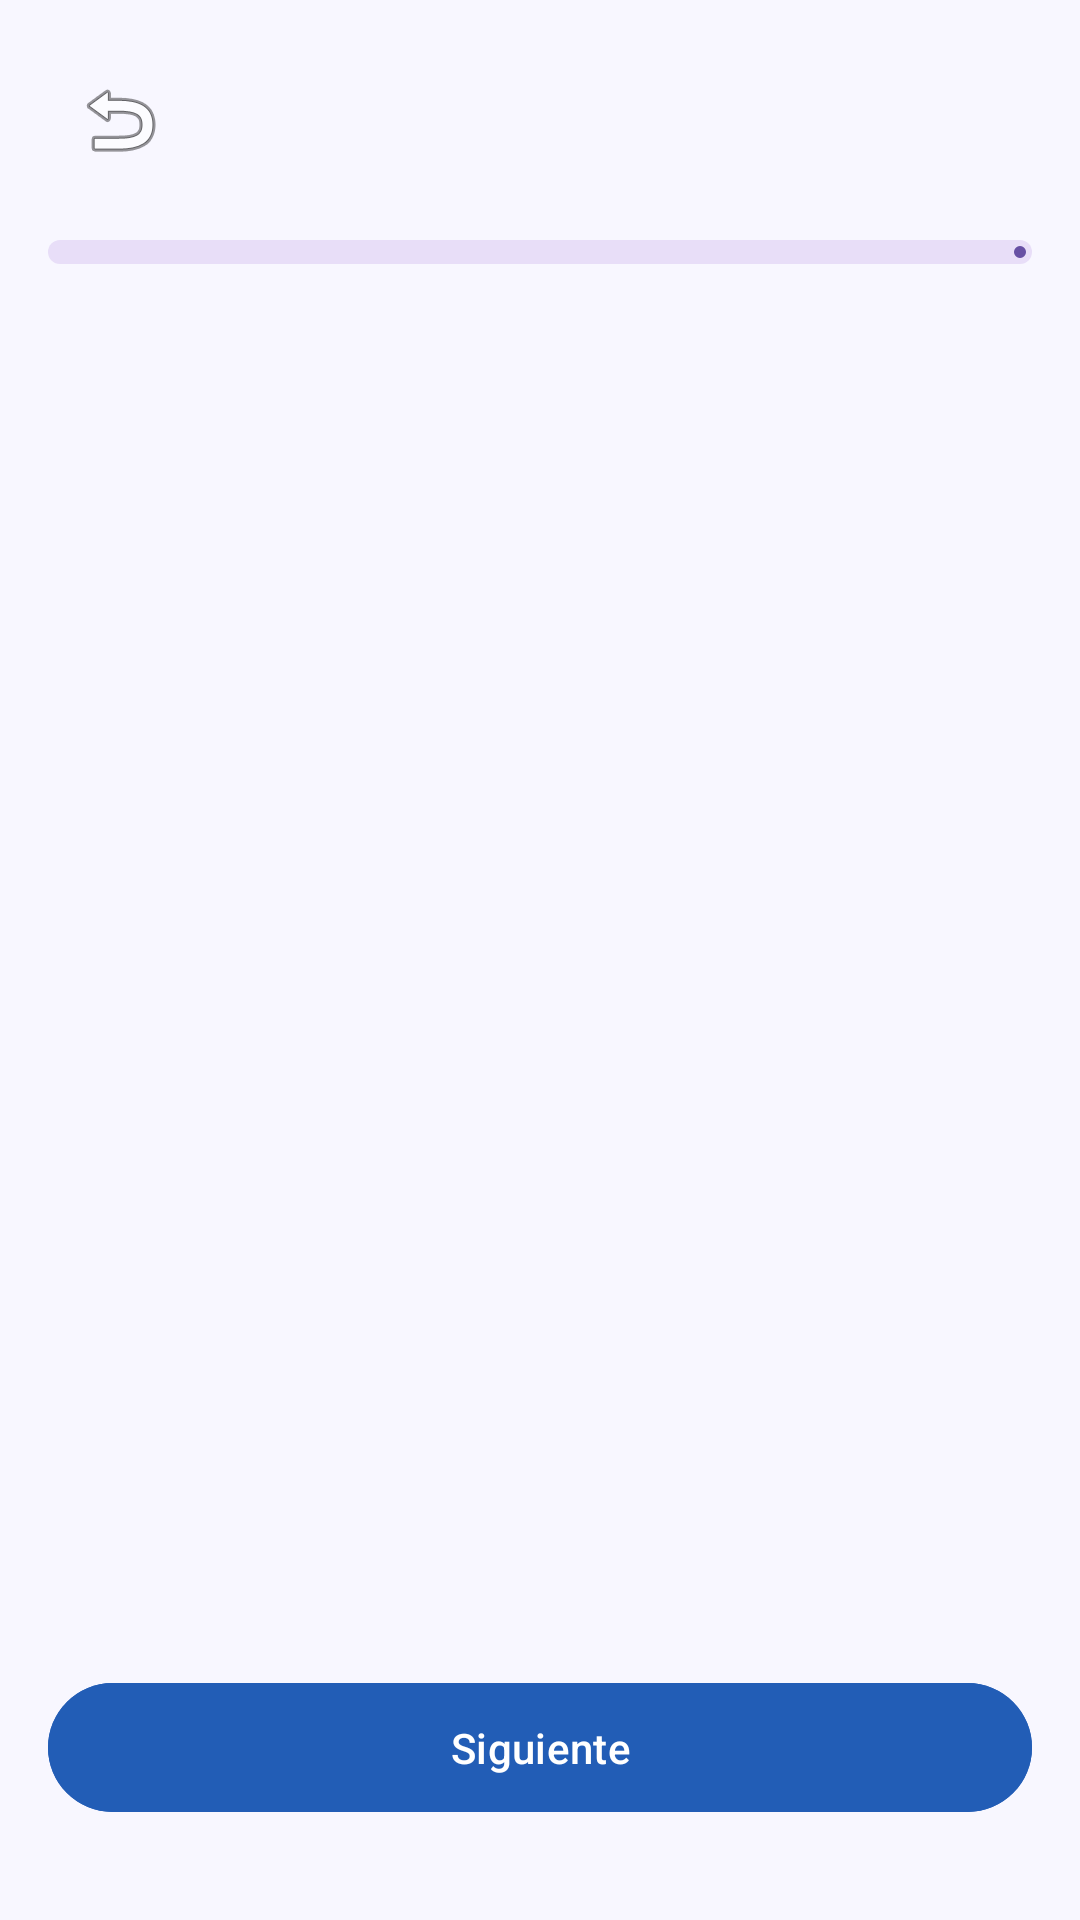

Where icons sit on this 1080*1920 app screen, as [x1=x1, y1=y1, x2=x2, y2=y2]:
Volver atrás: [x1=87, y1=89, x2=156, y2=152]
